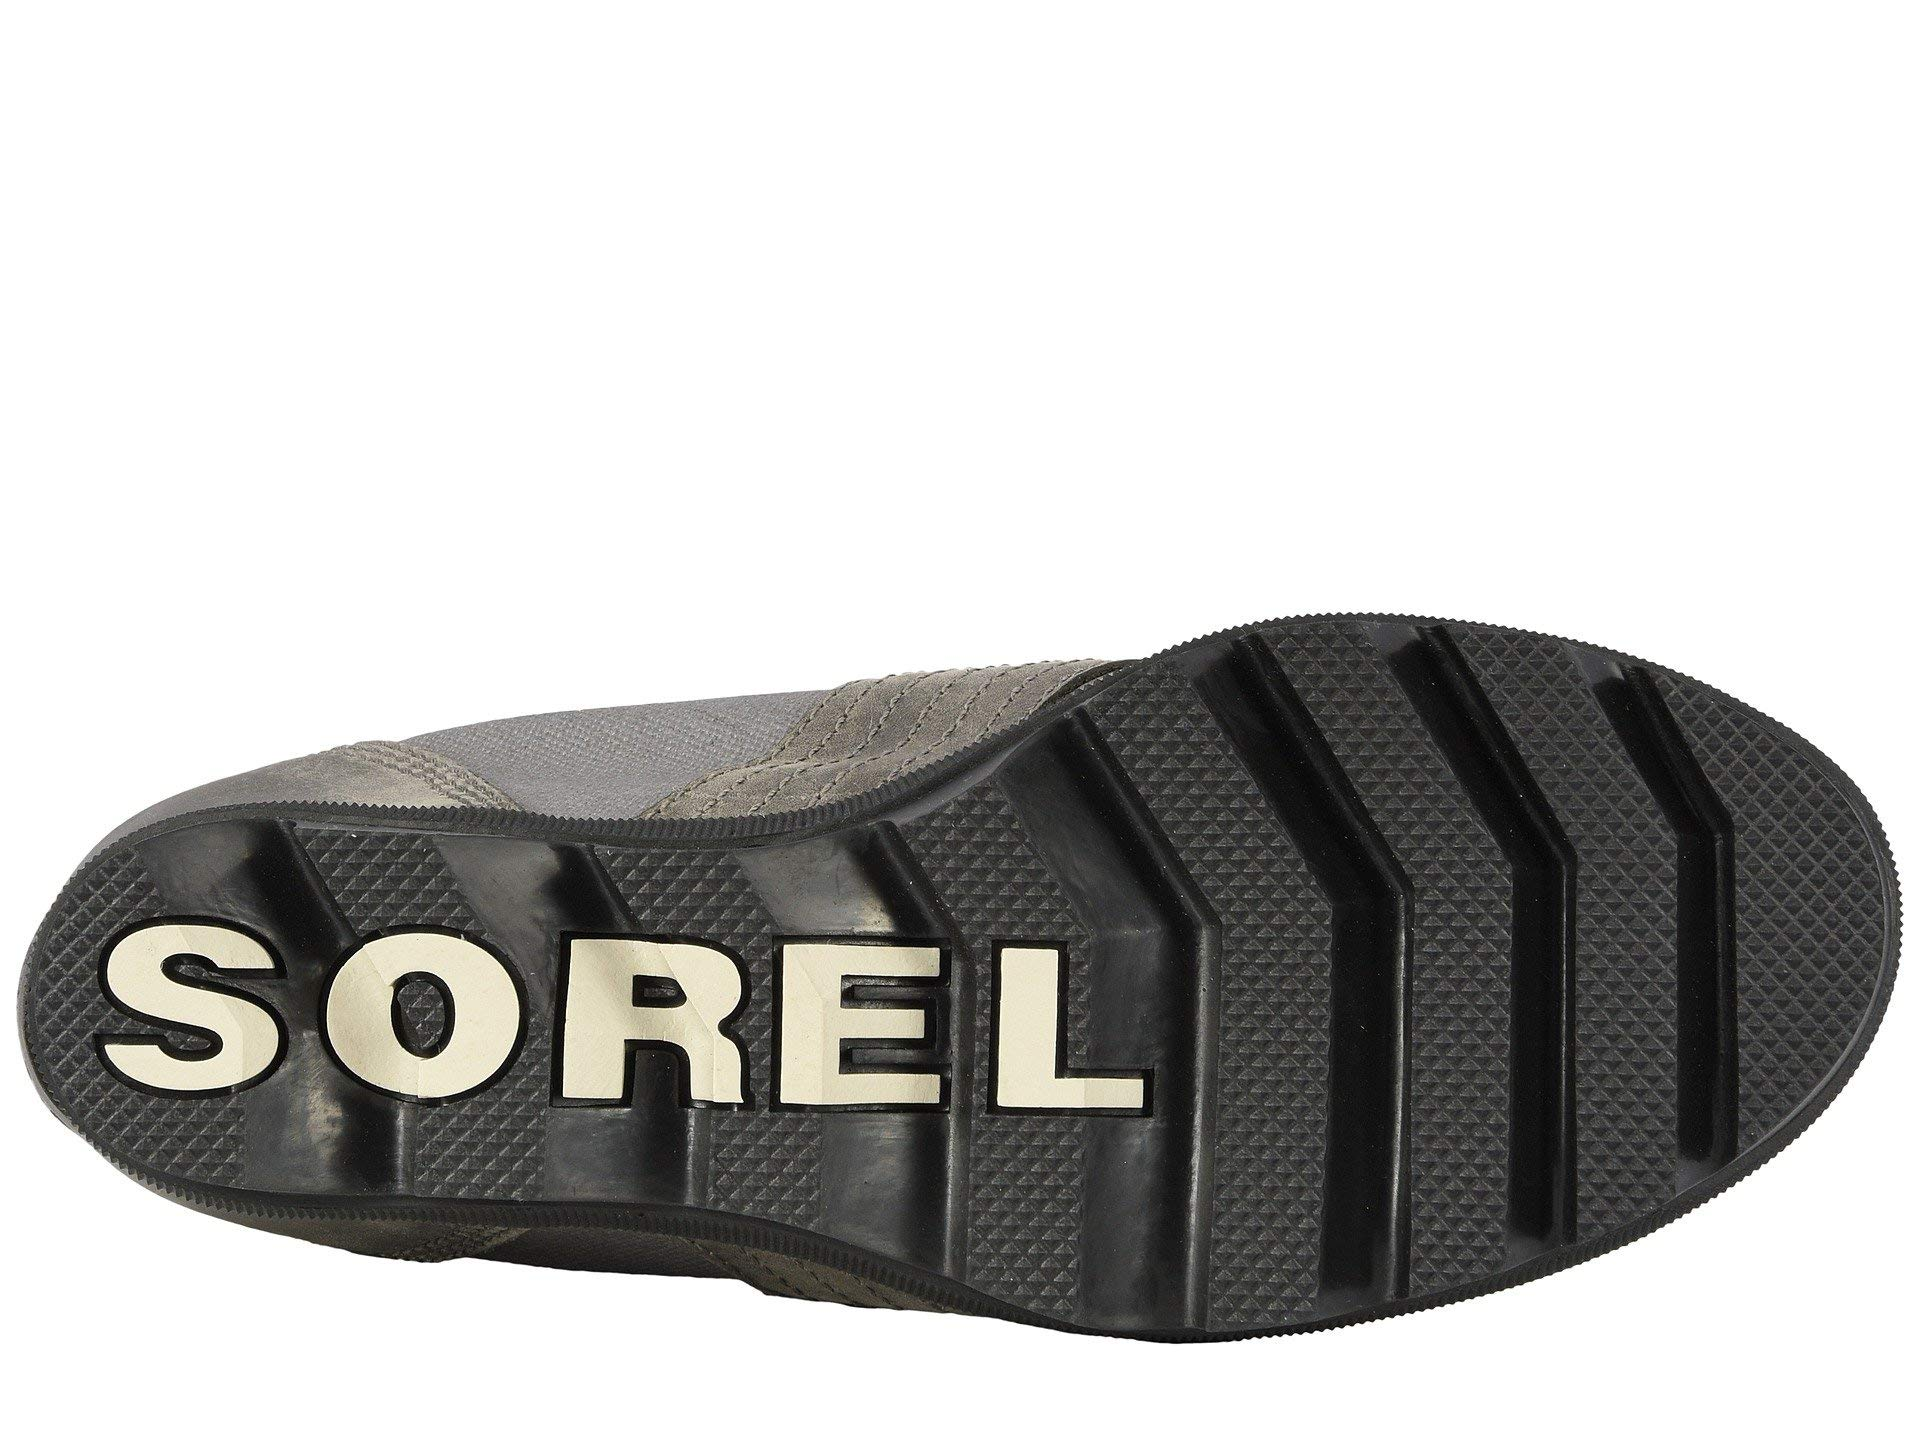chevron: (1194, 758, 1642, 1203)
circle: (298, 867, 581, 1180)
text: (298, 867, 581, 1180), (748, 886, 989, 1175), (83, 897, 333, 1147), (546, 905, 776, 1157), (975, 920, 1191, 1142)
